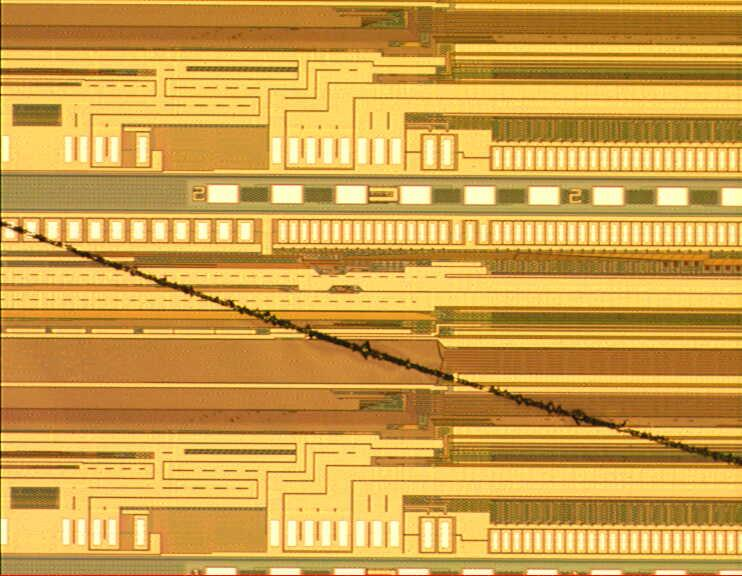SCRATCH: (2, 213, 742, 473)
